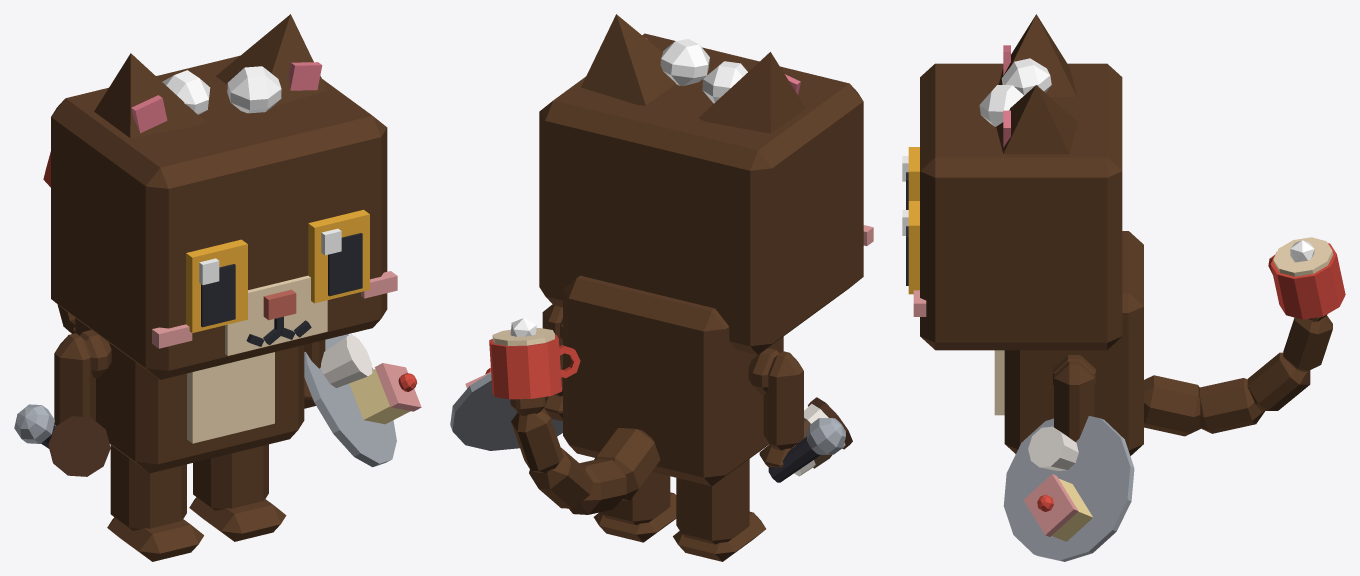
Rendered from CatCafe_Cat_HotChocolate_Work.fbx.
The picture shows the model from 3 angles, left to right: view 1: azimuth 30°, elevation 25°; view 2: azimuth 150°, elevation 25°; view 3: azimuth 270°, elevation 25°; orthographic projection. The views are drawn at different scales.
Parts seen in each view (by area): view 1: CatCafe_Cat_HotChocolate_Work_Head, CatCafe_Cat_HotChocolate_Work_Body, CatCafe_Cat_HotChocolate_Work_Held_Waiter, CatCafe_Cat_HotChocolate_Work_LegB2, CatCafe_Cat_HotChocolate_Work_LegB1, CatCafe_Cat_HotChocolate_Work_Eye2, CatCafe_Cat_HotChocolate_Work_Eye1, CatCafe_Cat_HotChocolate_Work_EarR, CatCafe_Cat_HotChocolate_Work_EarL, CatCafe_Cat_HotChocolate_Work_Prop, CatCafe_Cat_HotChocolate_Work_LegF2, CatCafe_Cat_HotChocolate_Work_Held_Barista (+2 smaller); view 2: CatCafe_Cat_HotChocolate_Work_Head, CatCafe_Cat_HotChocolate_Work_Body, CatCafe_Cat_HotChocolate_Work_Tail, CatCafe_Cat_HotChocolate_Work_LegB2, CatCafe_Cat_HotChocolate_Work_Tail_Mug, CatCafe_Cat_HotChocolate_Work_EarL, CatCafe_Cat_HotChocolate_Work_EarR, CatCafe_Cat_HotChocolate_Work_LegF2, CatCafe_Cat_HotChocolate_Work_Held_Waiter, CatCafe_Cat_HotChocolate_Work_LegB1, CatCafe_Cat_HotChocolate_Work_Prop, CatCafe_Cat_HotChocolate_Work_Held_Entertainer (+2 smaller); view 3: CatCafe_Cat_HotChocolate_Work_Head, CatCafe_Cat_HotChocolate_Work_Held_Waiter, CatCafe_Cat_HotChocolate_Work_Body, CatCafe_Cat_HotChocolate_Work_Tail, CatCafe_Cat_HotChocolate_Work_Tail_Mug, CatCafe_Cat_HotChocolate_Work_EarL, CatCafe_Cat_HotChocolate_Work_LegF1, CatCafe_Cat_HotChocolate_Work_EarR, CatCafe_Cat_HotChocolate_Work_Prop, CatCafe_Cat_HotChocolate_Work_Eye1, CatCafe_Cat_HotChocolate_Work_Eye2.
Boxes of the visible parts, box(x1,y1,x2,y2) form: CatCafe_Cat_HotChocolate_Work_Head: box(51, 55, 397, 379); CatCafe_Cat_HotChocolate_Work_Body: box(75, 318, 304, 473); CatCafe_Cat_HotChocolate_Work_Held_Waiter: box(304, 334, 421, 467); CatCafe_Cat_HotChocolate_Work_LegB2: box(107, 445, 203, 561); CatCafe_Cat_HotChocolate_Work_LegB1: box(189, 444, 286, 541); CatCafe_Cat_HotChocolate_Work_Eye2: box(186, 239, 247, 332); CatCafe_Cat_HotChocolate_Work_Eye1: box(308, 209, 369, 303); CatCafe_Cat_HotChocolate_Work_EarR: box(94, 53, 205, 138); CatCafe_Cat_HotChocolate_Work_EarL: box(215, 14, 327, 107); CatCafe_Cat_HotChocolate_Work_Prop: box(162, 66, 281, 114); CatCafe_Cat_HotChocolate_Work_LegF2: box(54, 333, 95, 425); CatCafe_Cat_HotChocolate_Work_Held_Barista: box(48, 416, 110, 476); CatCafe_Cat_HotChocolate_Work_Head: box(539, 33, 873, 354); CatCafe_Cat_HotChocolate_Work_Body: box(560, 275, 783, 486); CatCafe_Cat_HotChocolate_Work_Tail: box(510, 397, 660, 514); CatCafe_Cat_HotChocolate_Work_LegB2: box(673, 459, 765, 561); CatCafe_Cat_HotChocolate_Work_Tail_Mug: box(489, 318, 580, 399); CatCafe_Cat_HotChocolate_Work_EarL: box(581, 14, 675, 105); CatCafe_Cat_HotChocolate_Work_EarR: box(698, 52, 805, 133); CatCafe_Cat_HotChocolate_Work_LegF2: box(759, 351, 803, 468); CatCafe_Cat_HotChocolate_Work_Held_Waiter: box(450, 368, 562, 450); CatCafe_Cat_HotChocolate_Work_LegB1: box(593, 472, 676, 542); CatCafe_Cat_HotChocolate_Work_Prop: box(660, 39, 747, 103); CatCafe_Cat_HotChocolate_Work_Held_Entertainer: box(768, 418, 845, 482); CatCafe_Cat_HotChocolate_Work_Head: box(913, 63, 1122, 350); CatCafe_Cat_HotChocolate_Work_Held_Waiter: box(1003, 416, 1134, 561); CatCafe_Cat_HotChocolate_Work_Body: box(994, 231, 1143, 455); CatCafe_Cat_HotChocolate_Work_Tail: box(1144, 314, 1332, 436); CatCafe_Cat_HotChocolate_Work_Tail_Mug: box(1268, 237, 1345, 319); CatCafe_Cat_HotChocolate_Work_EarL: box(996, 85, 1076, 154); CatCafe_Cat_HotChocolate_Work_LegF1: box(1054, 361, 1094, 441); CatCafe_Cat_HotChocolate_Work_EarR: box(998, 14, 1076, 96); CatCafe_Cat_HotChocolate_Work_Prop: box(979, 58, 1051, 126); CatCafe_Cat_HotChocolate_Work_Eye1: box(902, 201, 919, 294); CatCafe_Cat_HotChocolate_Work_Eye2: box(902, 147, 919, 209).
Size of the model in its own units: 1.53 by 1.93 by 1.66.
1 material, 1 textured.
